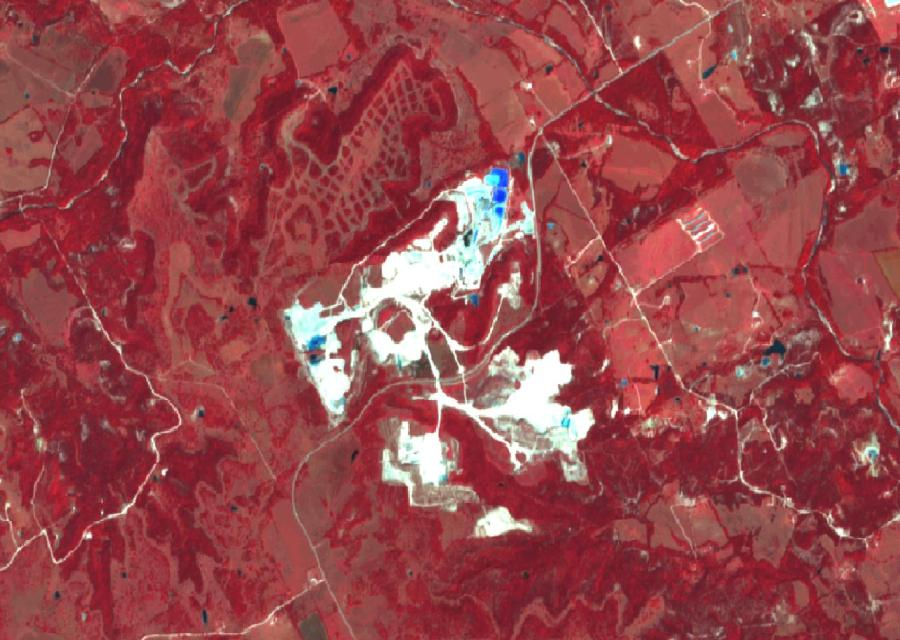Potential Lime Manufacturing Facility: (284, 162, 598, 542)
